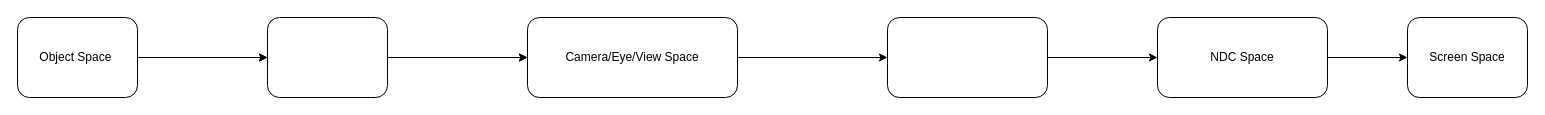
Some shapes in this 1545 by 115 pixel diagram are drawn without their labels. The shapes that lost their labels are listed below. From the top down, each one's box as (x1, y1, x2, y2) in pixels, then its label:
(266, 16, 388, 98): World Space
(886, 16, 1048, 98): Clip Space
